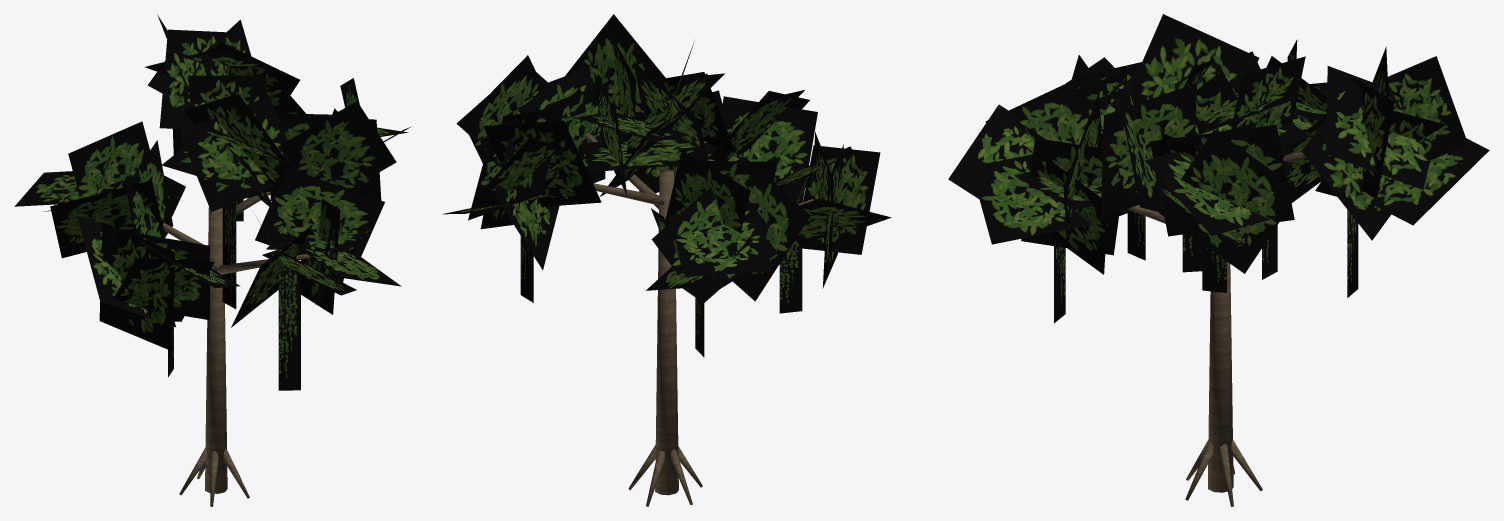
File: tree_jungle.glb
3 renders of one model, left to right at view 1: azimuth 30°, elevation 25°; view 2: azimuth 150°, elevation 25°; view 3: azimuth 270°, elevation 25°, orthographic. The views are drawn at different scales.
Parts seen in each view (by area): view 1: Tree; view 2: Tree; view 3: Tree.
Boxes of the visible parts, x1,y1,x2,y2 form: Tree: (14, 14, 411, 506); Tree: (442, 14, 891, 506); Tree: (948, 14, 1489, 506).
Size of the model in its own units: 16.12 by 16.53 by 17.08.
4 materials, 4 textured.
